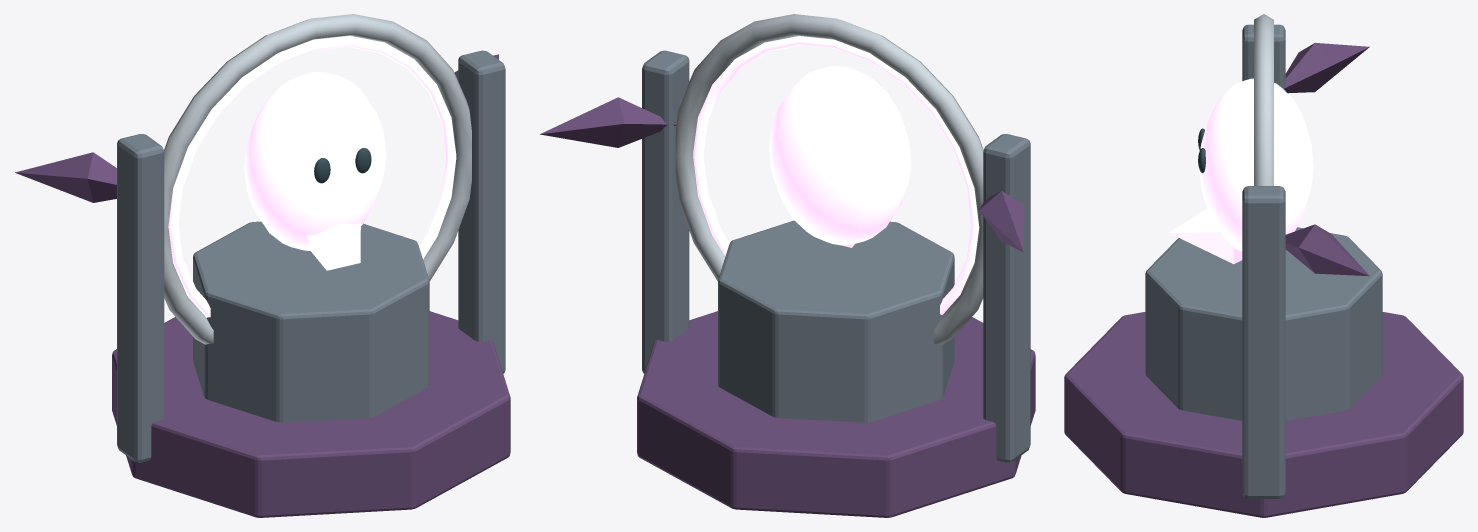
File: golden_spectralreliquary.glb
The picture shows the model from 3 angles, left to right: view 1: azimuth 30°, elevation 25°; view 2: azimuth 150°, elevation 25°; view 3: azimuth 270°, elevation 25°; orthographic projection. The views are drawn at different scales.
Visible parts, largest first — view 1: GS_SpectralReliquary_Foot_NightPlum, GS_SpectralReliquary_Plinth_DarkMetal, GS_SpectralReliquary_Wisp_SpectralViolet, GS_SpectralReliquary_Pylon-1_DarkMetal, GS_SpectralReliquary_Ward_SecondaryMetal, GS_SpectralReliquary_Pylon1_DarkMetal, GS_SpectralReliquary_SpectralSeal_SpectralViolet, GS_SpectralReliquary_MoonFin-1_NightPlum, GS_SpectralReliquary_WispTail_SpectralViolet; view 2: GS_SpectralReliquary_Foot_NightPlum, GS_SpectralReliquary_Plinth_DarkMetal, GS_SpectralReliquary_Wisp_SpectralViolet, GS_SpectralReliquary_Ward_SecondaryMetal, GS_SpectralReliquary_Pylon-1_DarkMetal, GS_SpectralReliquary_Pylon1_DarkMetal, GS_SpectralReliquary_SpectralSeal_SpectralViolet, GS_SpectralReliquary_MoonFin1_NightPlum, GS_SpectralReliquary_MoonFin-1_NightPlum; view 3: GS_SpectralReliquary_Foot_NightPlum, GS_SpectralReliquary_Plinth_DarkMetal, GS_SpectralReliquary_Pylon1_DarkMetal, GS_SpectralReliquary_Wisp_SpectralViolet, GS_SpectralReliquary_Ward_SecondaryMetal, GS_SpectralReliquary_MoonFin-1_NightPlum, GS_SpectralReliquary_MoonFin1_NightPlum, GS_SpectralReliquary_WispTail_SpectralViolet, GS_SpectralReliquary_Pylon-1_DarkMetal.
Boxes of the visible parts, x1=… form: GS_SpectralReliquary_Foot_NightPlum: x1=112, y1=311, x2=510, y2=517; GS_SpectralReliquary_Plinth_DarkMetal: x1=193, y1=221, x2=429, y2=422; GS_SpectralReliquary_Wisp_SpectralViolet: x1=244, y1=72, x2=386, y2=250; GS_SpectralReliquary_Pylon-1_DarkMetal: x1=117, y1=134, x2=164, y2=462; GS_SpectralReliquary_Ward_SecondaryMetal: x1=164, y1=14, x2=471, y2=344; GS_SpectralReliquary_Pylon1_DarkMetal: x1=458, y1=50, x2=505, y2=373; GS_SpectralReliquary_SpectralSeal_SpectralViolet: x1=168, y1=35, x2=456, y2=317; GS_SpectralReliquary_MoonFin-1_NightPlum: x1=15, y1=152, x2=116, y2=202; GS_SpectralReliquary_WispTail_SpectralViolet: x1=306, y1=222, x2=360, y2=270; GS_SpectralReliquary_Foot_NightPlum: x1=637, y1=311, x2=1035, y2=517; GS_SpectralReliquary_Plinth_DarkMetal: x1=718, y1=220, x2=954, y2=422; GS_SpectralReliquary_Wisp_SpectralViolet: x1=769, y1=66, x2=911, y2=245; GS_SpectralReliquary_Ward_SecondaryMetal: x1=675, y1=14, x2=983, y2=344; GS_SpectralReliquary_Pylon-1_DarkMetal: x1=983, y1=134, x2=1030, y2=462; GS_SpectralReliquary_Pylon1_DarkMetal: x1=642, y1=50, x2=689, y2=373; GS_SpectralReliquary_SpectralSeal_SpectralViolet: x1=693, y1=36, x2=979, y2=314; GS_SpectralReliquary_MoonFin1_NightPlum: x1=540, y1=97, x2=677, y2=147; GS_SpectralReliquary_MoonFin-1_NightPlum: x1=979, y1=191, x2=1024, y2=252; GS_SpectralReliquary_Foot_NightPlum: x1=1064, y1=312, x2=1463, y2=517; GS_SpectralReliquary_Plinth_DarkMetal: x1=1145, y1=227, x2=1382, y2=420; GS_SpectralReliquary_Pylon1_DarkMetal: x1=1242, y1=186, x2=1285, y2=498; GS_SpectralReliquary_Wisp_SpectralViolet: x1=1199, y1=78, x2=1313, y2=251; GS_SpectralReliquary_Ward_SecondaryMetal: x1=1254, y1=14, x2=1273, y2=185; GS_SpectralReliquary_MoonFin-1_NightPlum: x1=1284, y1=42, x2=1369, y2=93; GS_SpectralReliquary_MoonFin1_NightPlum: x1=1285, y1=224, x2=1369, y2=276; GS_SpectralReliquary_WispTail_SpectralViolet: x1=1169, y1=208, x2=1242, y2=264; GS_SpectralReliquary_Pylon-1_DarkMetal: x1=1242, y1=24, x2=1285, y2=90.
Size of the model in its own units: 5.68 by 4.67 by 4.18.
